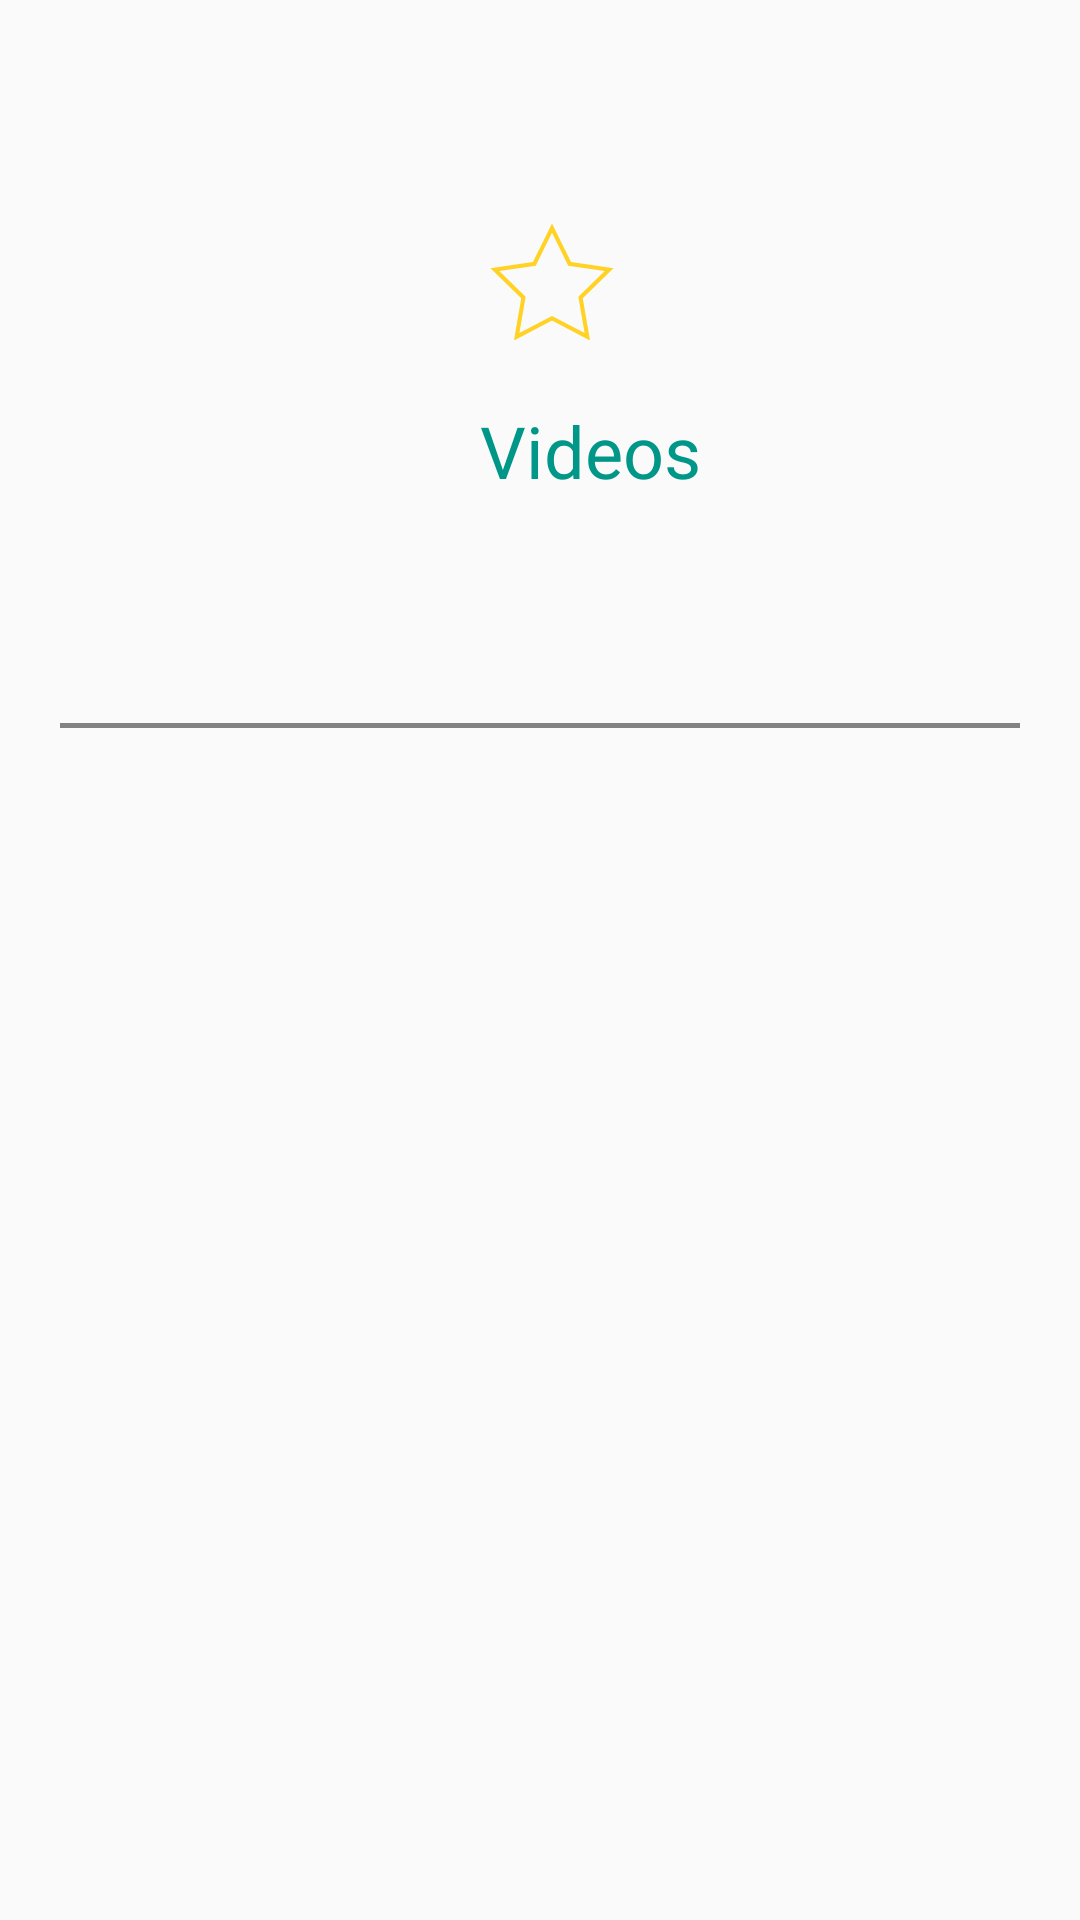

Screen size 1080 × 1920. Icon name, then its box in pixels as {"left": x1, "top": y1, "right": x2, "bottom": y2}:
star: {"left": 490, "top": 224, "right": 614, "bottom": 341}
